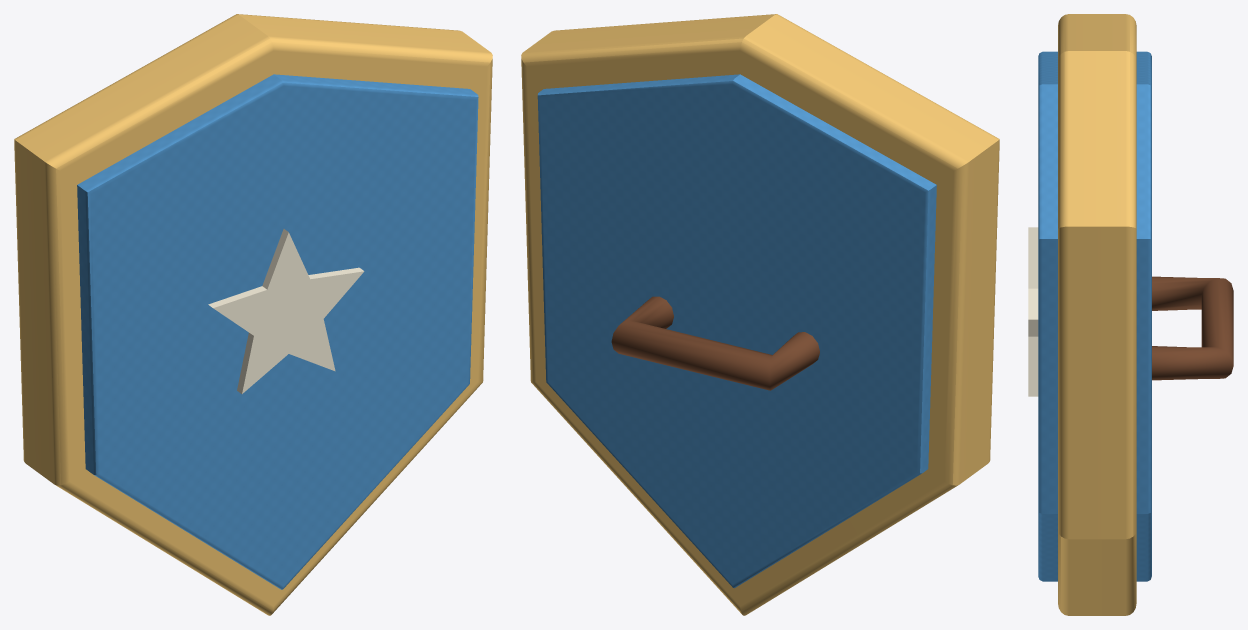
The model's file is SHIELD.glb.
3 views of the same model, side by side, from view 1: azimuth 30°, elevation 25°; view 2: azimuth 150°, elevation 25°; view 3: azimuth 270°, elevation 25° (orthographic). The views are drawn at different scales.
Visible parts, largest first — view 1: SHIELD; view 2: SHIELD; view 3: SHIELD.
Part boxes in pixels (left/top/right/bottom): SHIELD: left=14, top=14, right=492, bottom=615; SHIELD: left=521, top=14, right=999, bottom=615; SHIELD: left=1028, top=14, right=1233, bottom=615.
Size of the model in its own units: 0.46 by 0.57 by 0.1876.
4 materials, 1 textured.
